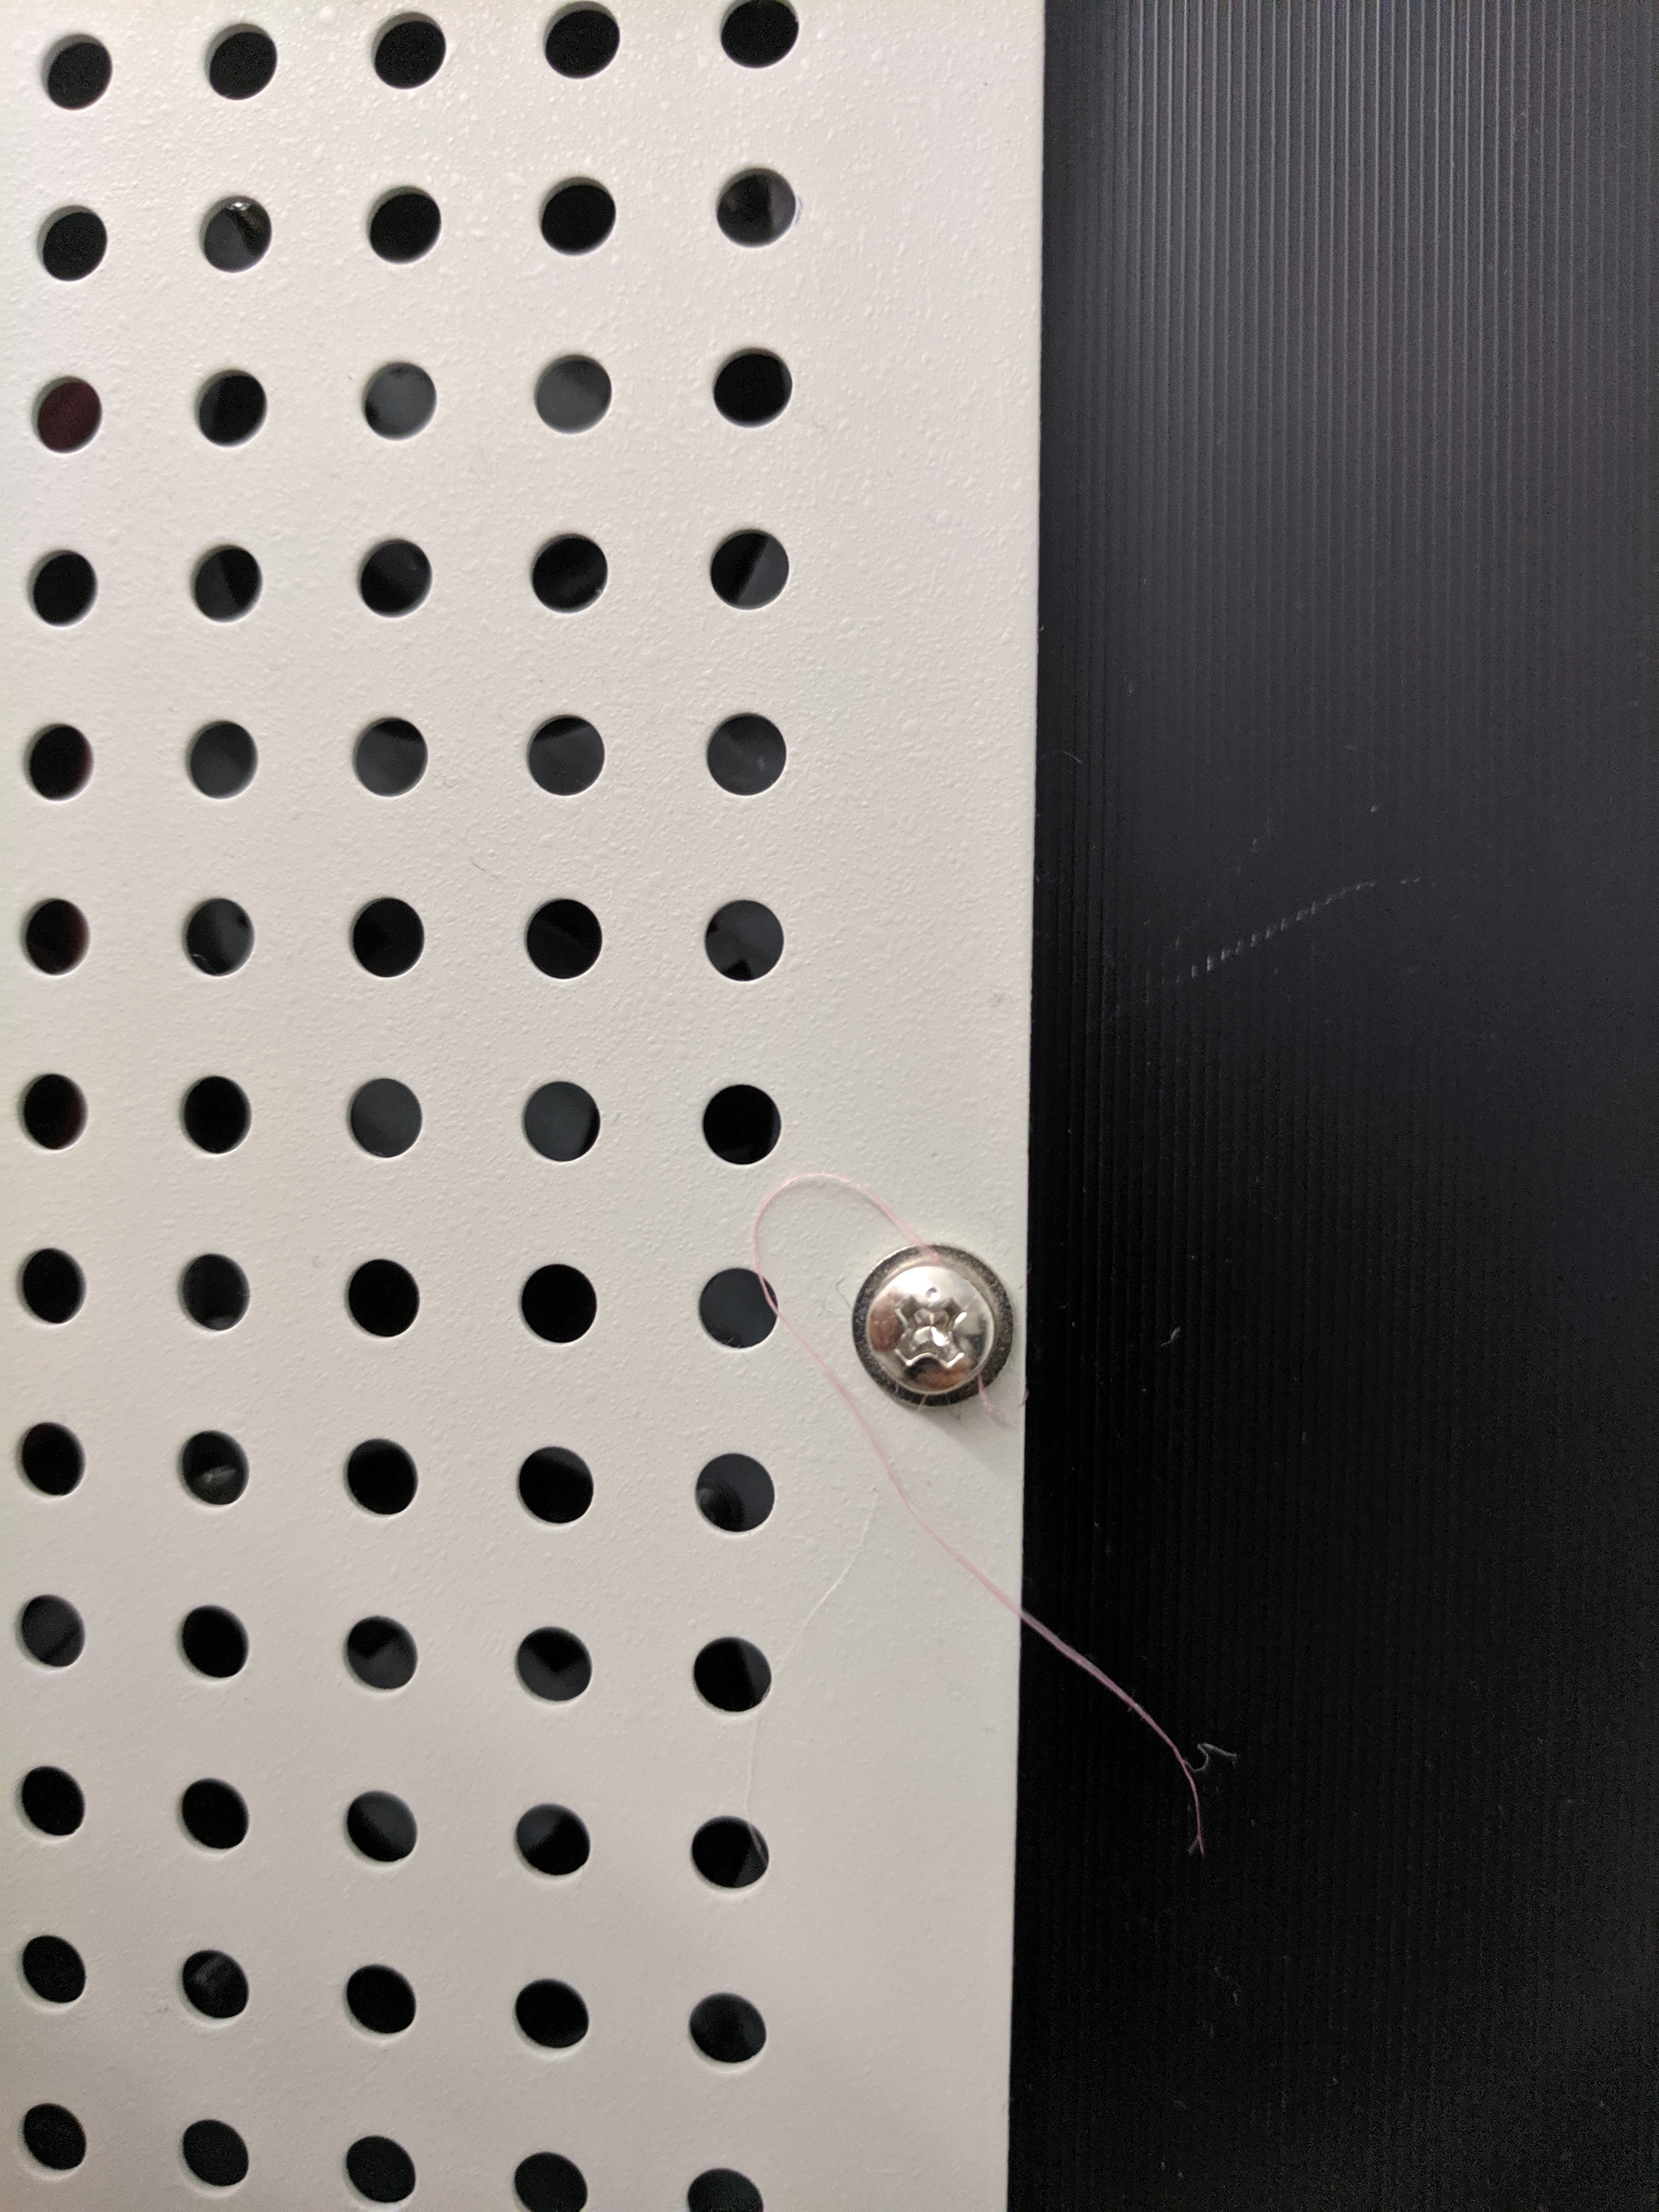cross_recessed_screw: (615, 1211, 762, 1355), (627, 730, 772, 873)
